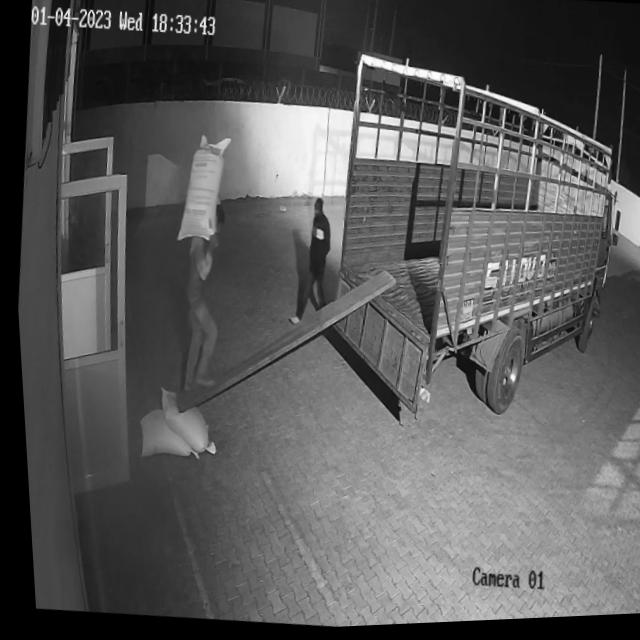sack: (168, 133, 234, 249), (148, 384, 218, 457), (130, 407, 196, 463)
